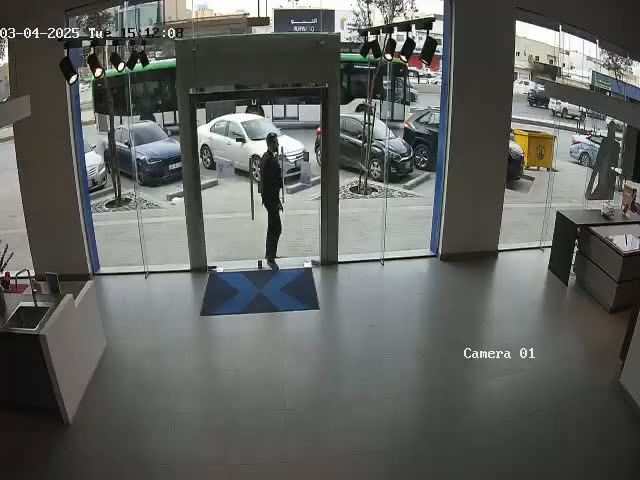employee: (258, 132, 285, 271)
